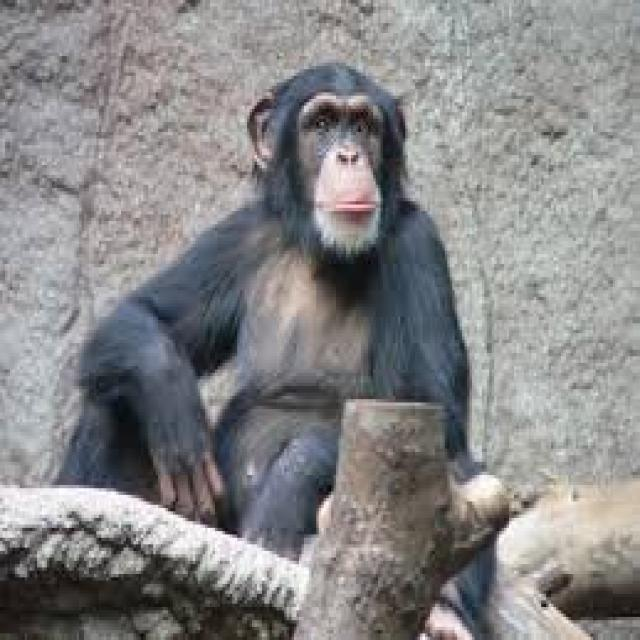Chimpanzee: (55, 65, 481, 592)
